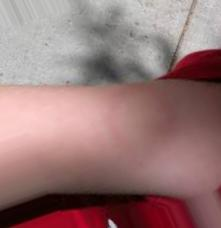Reupload: (0, 80, 220, 227)
